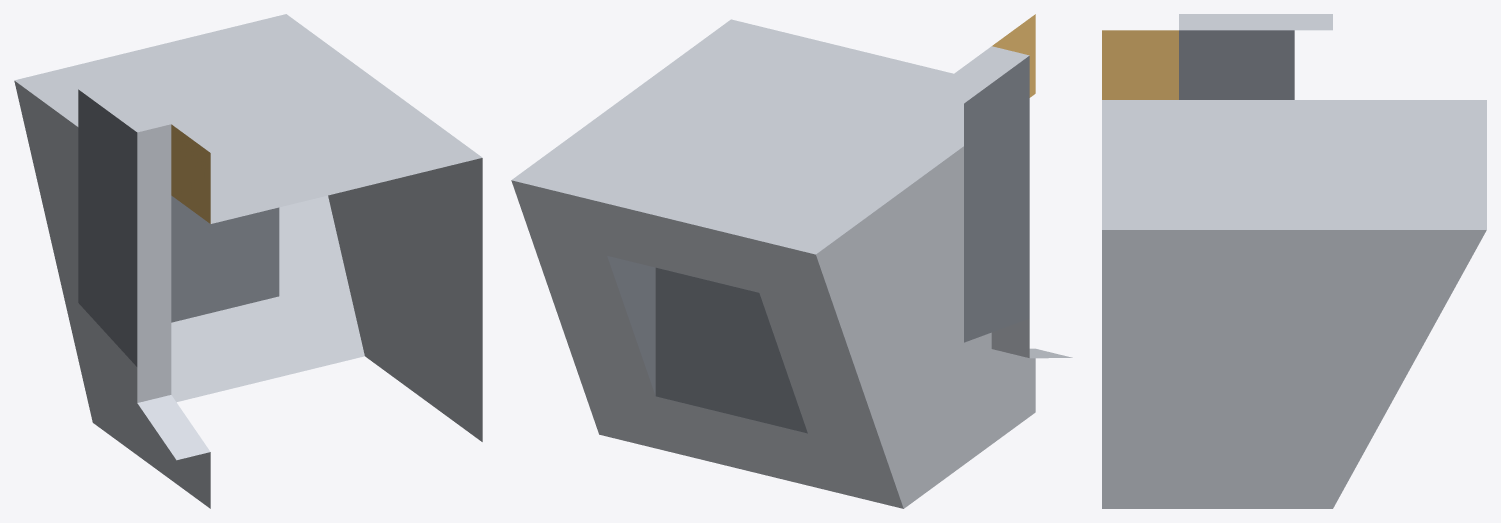
The picture shows the model from 3 angles, left to right: view 1: azimuth 30°, elevation 25°; view 2: azimuth 150°, elevation 25°; view 3: azimuth 270°, elevation 25°; orthographic projection. The views are drawn at different scales.
Bounding box in the file's own units: 0.9 × 1 × 1.
